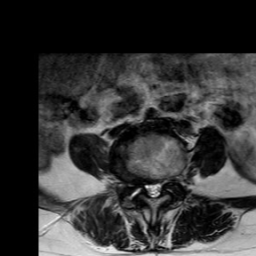CCS_severe_stenosis: (150, 173, 156, 205)
LFS_stenosis: (163, 167, 170, 191)
LLS_stenosis: (156, 172, 163, 202)
RFS_severe_stenosis: (135, 170, 143, 197)
RLS_severe_stenosis: (143, 174, 150, 201)
